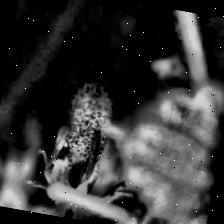Gray Mold: (19, 74, 154, 224)
